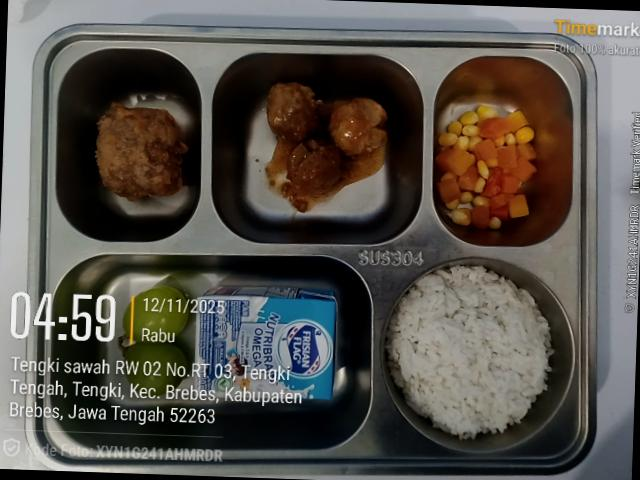bakso: (266, 82, 388, 212)
buah: (123, 287, 189, 394)
nasi: (386, 266, 552, 438)
sayur: (435, 105, 542, 229)
susu: (195, 287, 336, 399)
tahu: (95, 103, 188, 201)
